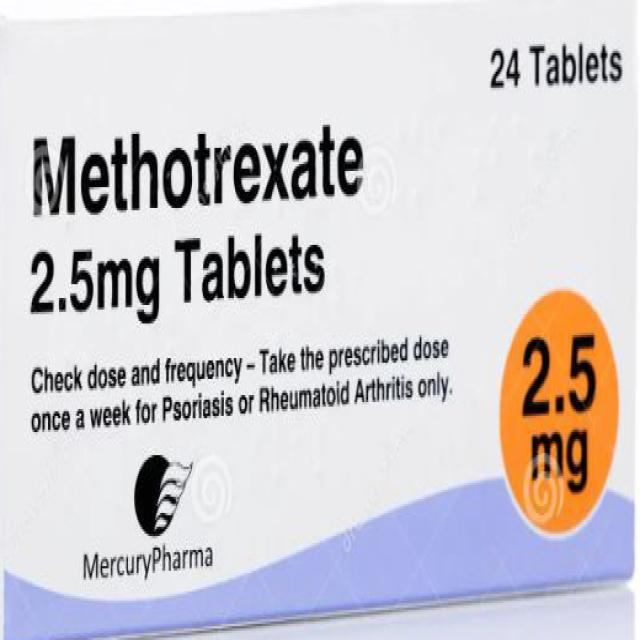drug-name: (24, 121, 368, 224)
